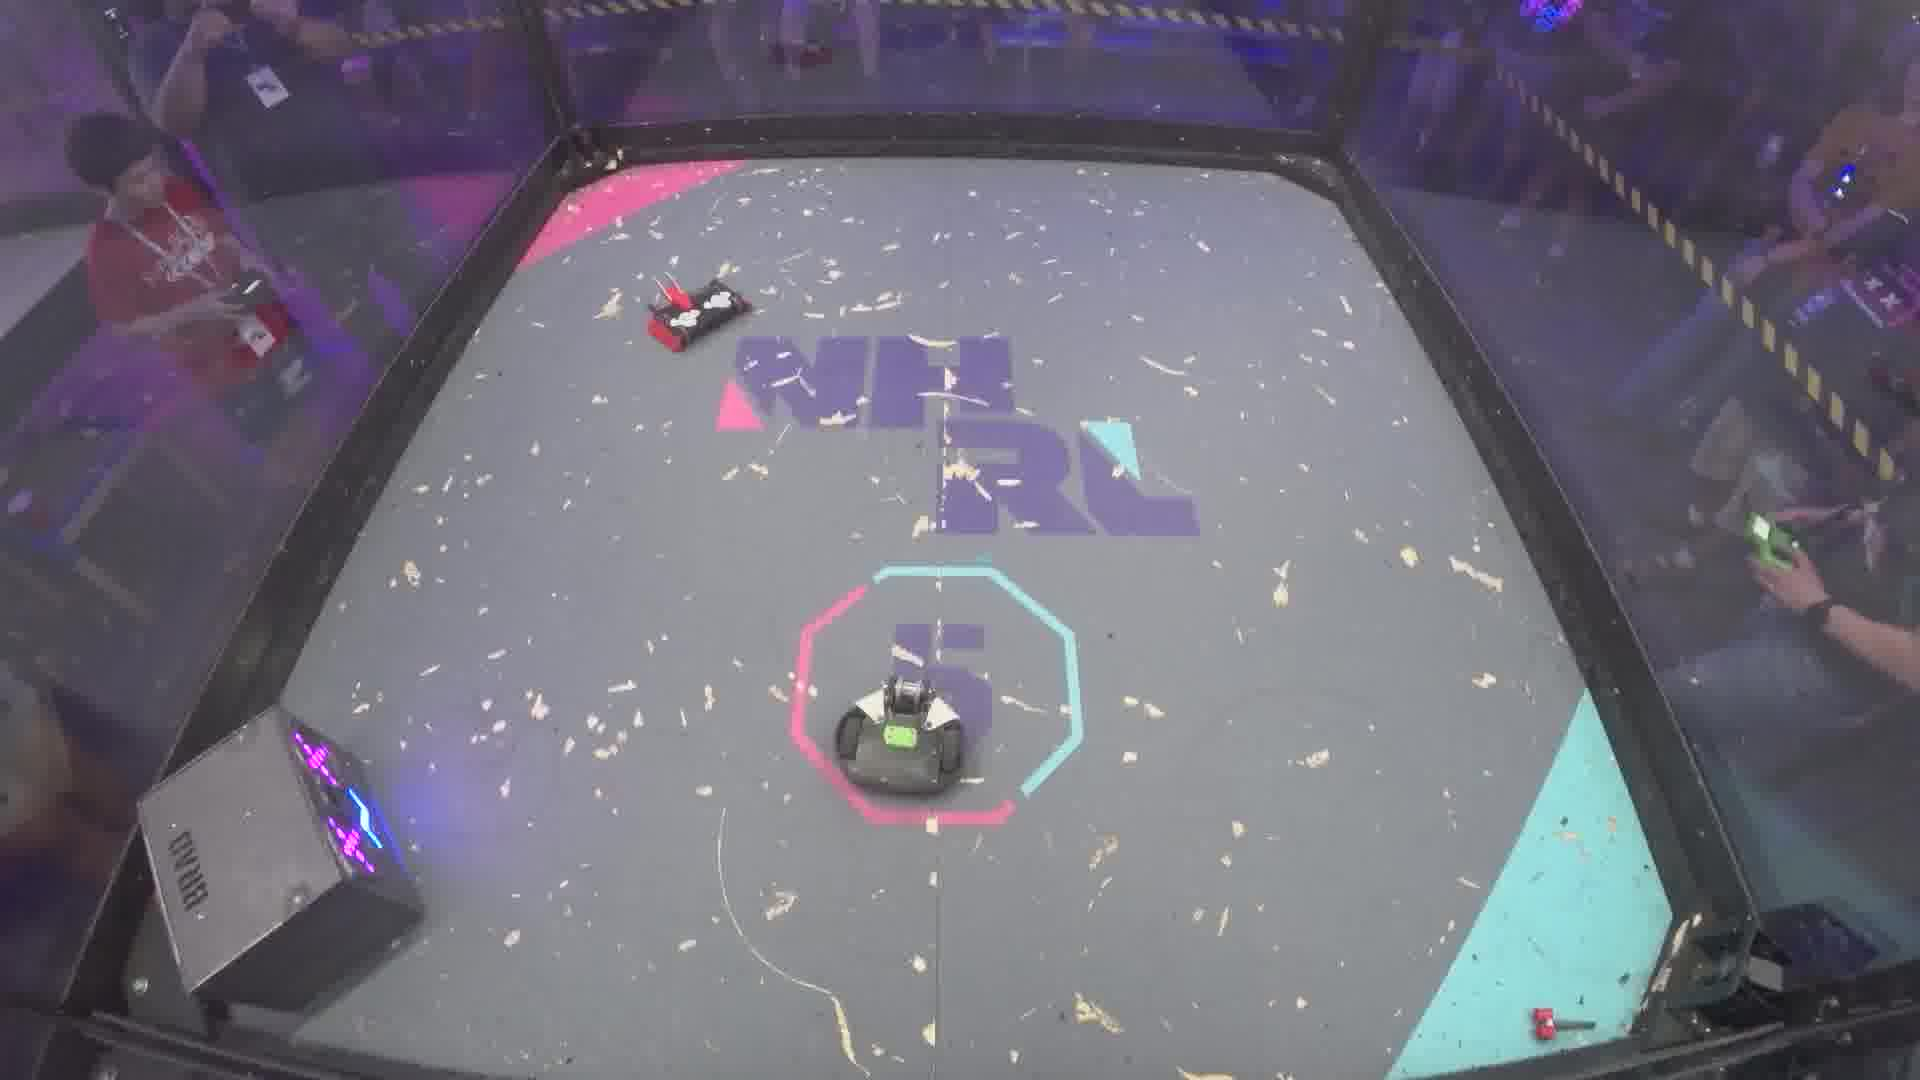combatbot: (832, 670, 969, 794), (641, 265, 752, 356)
debris: (1530, 1007, 1597, 1040), (1578, 1023, 1594, 1026)
housebot: (137, 703, 434, 1015)
